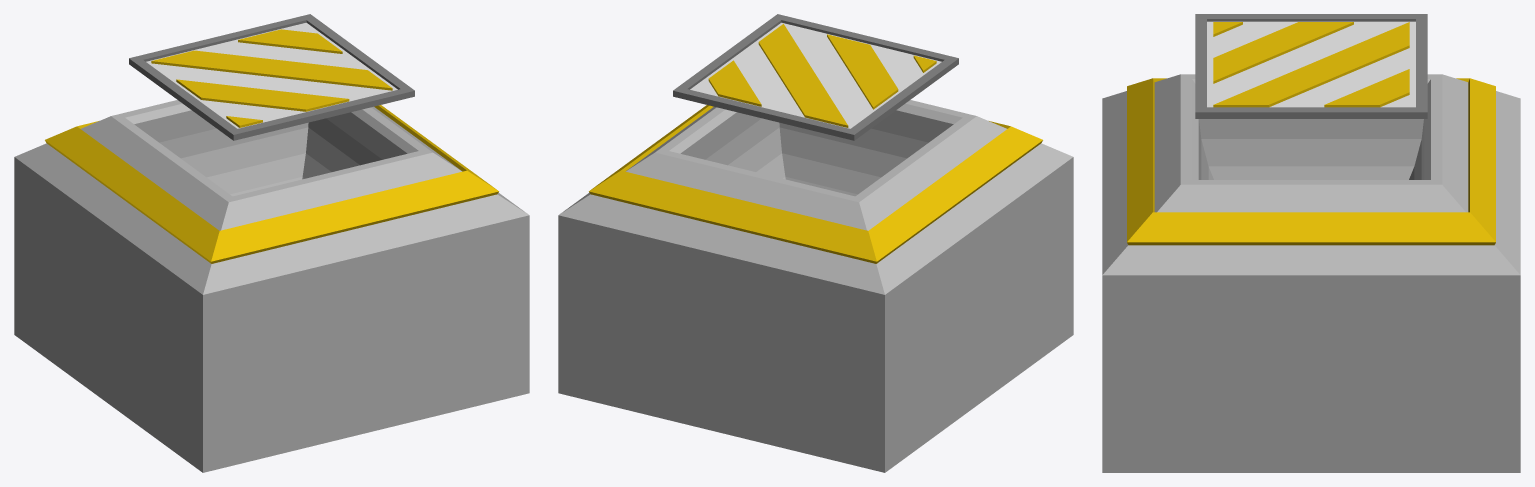
File: springmachine.glb
3 renders of one model, left to right at view 1: azimuth 30°, elevation 25°; view 2: azimuth 150°, elevation 25°; view 3: azimuth 270°, elevation 25°, orthographic. The views are drawn at different scales.
Parts seen in each view (by area): view 1: machine, platform; view 2: machine, platform; view 3: machine, platform.
Boxes of the visible parts, x1,y1,x2,y2 form: machine: (14,100,529,472); platform: (129,14,414,140); machine: (558,100,1073,472); platform: (673,14,958,140); machine: (1102,74,1520,472); platform: (1195,14,1427,118).
Size of the model in its own units: 5.76 by 4.88 by 5.76.
